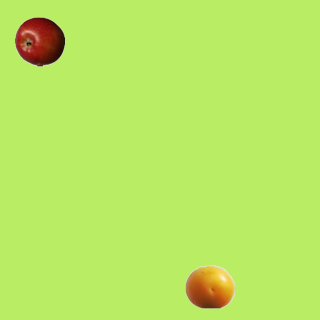Apple Braeburn: (14, 16, 64, 66)
Cherry Wax Yellow: (184, 261, 234, 311)
